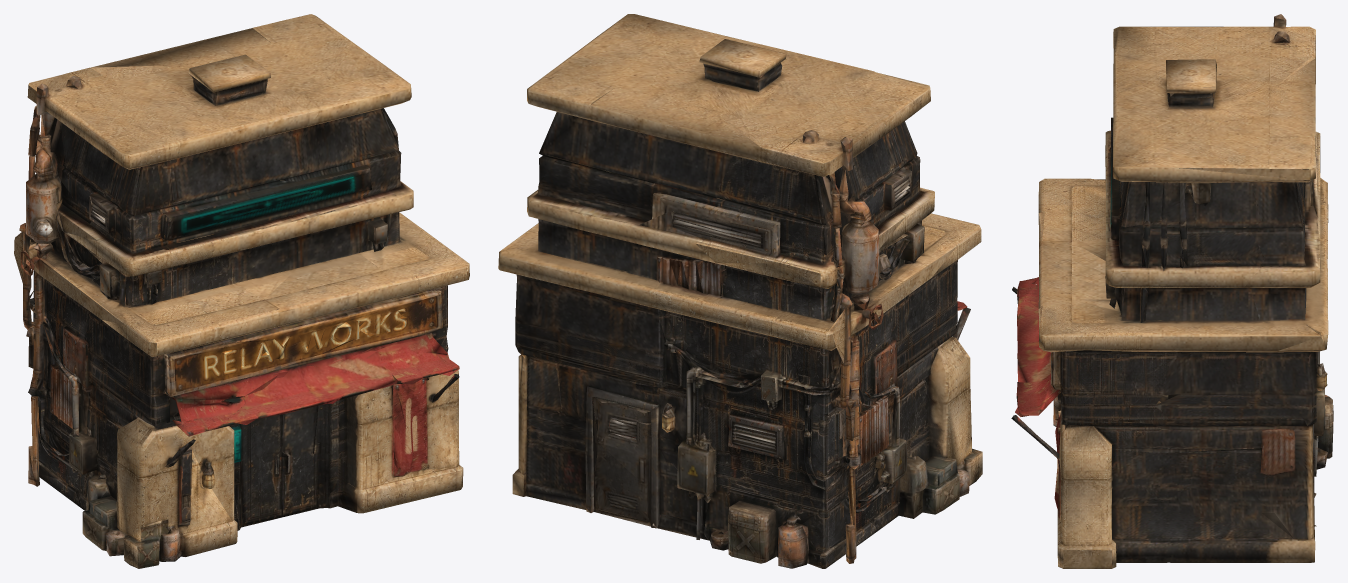
Rendered from relay.fbx.
3 views of the same model, side by side, from view 1: azimuth 30°, elevation 25°; view 2: azimuth 150°, elevation 25°; view 3: azimuth 270°, elevation 25° (orthographic). The views are drawn at different scales.
Parts seen in each view (by area): view 1: Mesh_0; view 2: Mesh_0; view 3: Mesh_0.
Part boxes in pixels (x1,y1,x2,y2): Mesh_0: (14, 14, 469, 568); Mesh_0: (498, 14, 982, 568); Mesh_0: (1011, 14, 1333, 568).
Bounding box in the file's own units: 164 × 190 × 134.
1 material, 1 textured.
